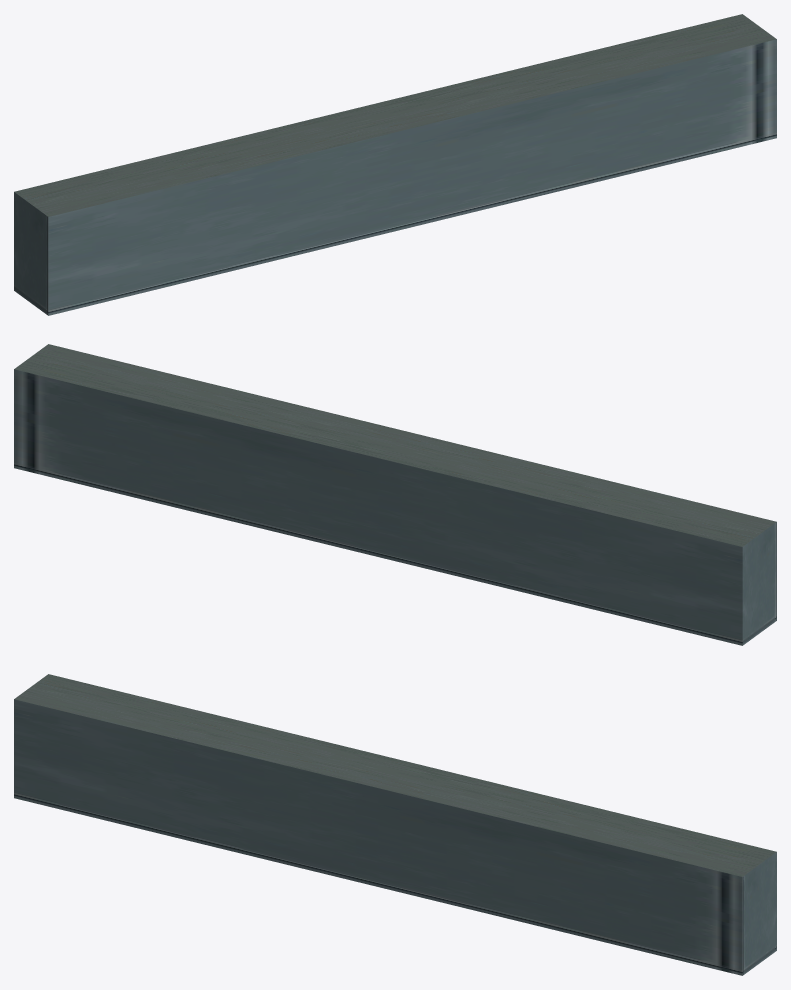
3 views of the same model, one above another, from view 1: azimuth 30°, elevation 25°; view 2: azimuth 150°, elevation 25°; view 3: azimuth 330°, elevation 25° (orthographic).
Parts seen in each view (by area): view 1: Joint_0_Object_1, Joint_0_Object_0, Joint_0_Object_2; view 2: Joint_0_Object_1, Joint_0_Object_0, Joint_0_Object_2; view 3: Joint_0_Object_1, Joint_0_Object_0, Joint_0_Object_2.
Part boxes in pixels (bbox=[...]): Joint_0_Object_1: bbox=[48, 39, 776, 315]; Joint_0_Object_0: bbox=[14, 14, 776, 216]; Joint_0_Object_2: bbox=[14, 192, 48, 315]; Joint_0_Object_1: bbox=[14, 369, 742, 645]; Joint_0_Object_0: bbox=[14, 344, 776, 546]; Joint_0_Object_2: bbox=[742, 522, 776, 645]; Joint_0_Object_1: bbox=[14, 699, 742, 975]; Joint_0_Object_0: bbox=[14, 674, 776, 876]; Joint_0_Object_2: bbox=[742, 852, 776, 975].
Size of the model in its own units: 6000 by 778 by 492.
3 materials, 3 textured.
